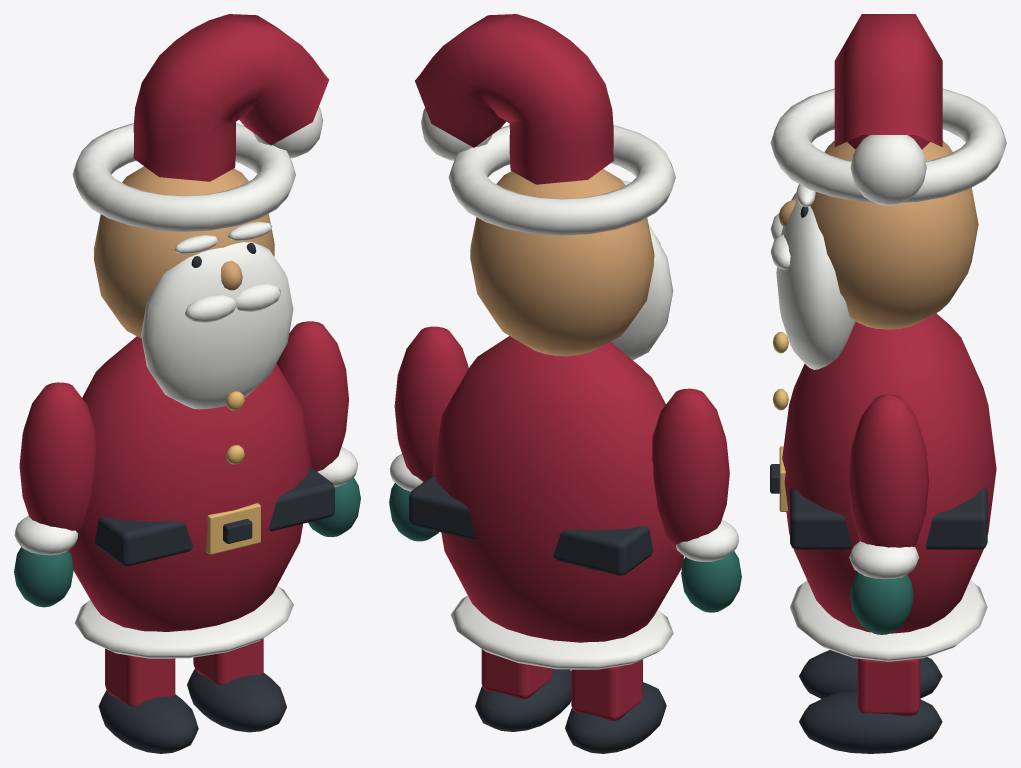
File: santa.glb
3 renders of one model, left to right at view 1: azimuth 30°, elevation 25°; view 2: azimuth 150°, elevation 25°; view 3: azimuth 270°, elevation 25°, orthographic. The views are drawn at different scales.
Parts seen in each view (by area): view 1: berry, cream, ink, biscuit, pine, brass; view 2: berry, cream, biscuit, ink, pine; view 3: berry, cream, biscuit, ink, pine, brass.
Boxes of the visible parts, x1,y1,x2,y2 form: berry: (19,14,348,706); cream: (14,107,357,658); ink: (95,243,334,753); biscuit: (93,166,274,338); pine: (14,477,360,607); brass: (206,391,260,554); berry: (394,14,729,721); cream: (389,108,738,669); biscuit: (470,169,654,356); ink: (409,475,666,753); pine: (389,483,741,612); berry: (782,14,996,716); cream: (770,88,1006,661); biscuit: (778,140,978,329); ink: (770,206,987,753); pine: (850,572,913,634); brass: (772,332,788,511).
Bounding box in the file's own units: 0.922 × 1.79 × 0.527.
